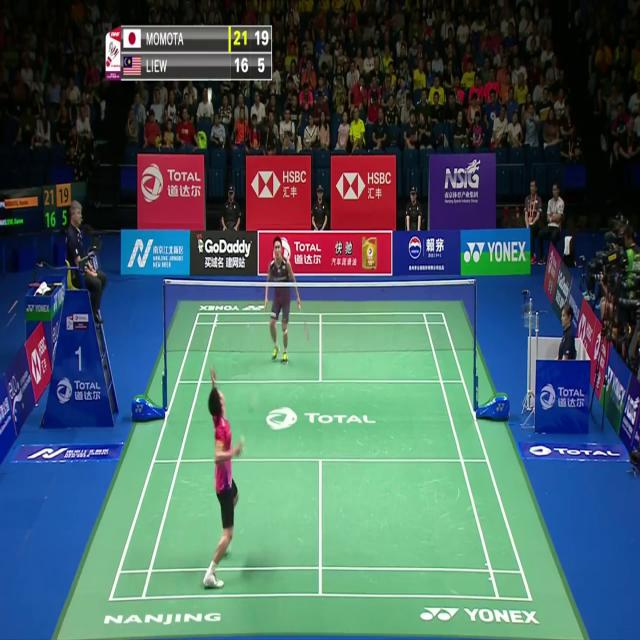Shuttlecock: (206, 90, 213, 102)
